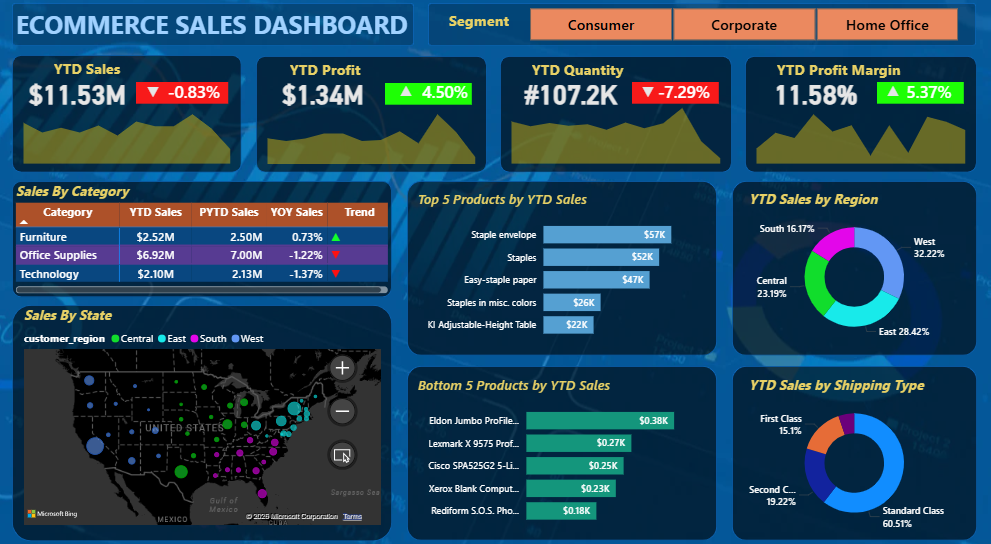

What the dashboard file says about the page in this screenshot:
{"tool":"powerbi","page":{"name":"E-commerce Sales Analysis","canvas":[1280,720],"ordinal":0},"visuals":[{"type":"shape","box":[17,12.8,518.7,55.3],"z":0},{"type":"textbox","box":[17,12.8,558.4,55.3],"z":1000},{"type":"shape","box":[17,79.4,296.2,151.7],"z":2000},{"type":"card","fields":{"Values":["public temp_csv_imported2.YTD Sales"]},"box":[11.3,97.8,178.6,60.9],"z":3000},{"type":"areaChart","fields":{"Category":["Calendar.Month"],"Y":["Sum(public temp_csv_imported2.sales_per_order)"]},"box":[17,131.8,296.2,93.5],"z":4000},{"type":"shape","box":[177.2,114.8,119.1,28.3],"z":5000},{"type":"card","fields":{"Values":["public temp_csv_imported2.YOY Sales"]},"box":[189.9,113.4,123.3,31.2],"z":6000},{"type":"card","fields":{"Values":["public temp_csv_imported2.Sales Icon"]},"box":[151.7,114.8,93.5,28.3],"z":7000},{"type":"textbox","box":[65.2,79.4,109.1,49.6],"z":8000},{"type":"shape","box":[331.7,80.8,297.6,150.2],"z":9000},{"type":"card","fields":{"Values":["public temp_csv_imported2.YTD Profit"]},"box":[299.1,86.5,236.7,85],"z":10000},{"type":"areaChart","fields":{"Category":["Calendar.Month"],"Y":["Sum(public temp_csv_imported2.profit_per_order)"]},"box":[331.7,140.3,297.6,85],"z":11000},{"type":"shape","box":[497.5,116.2,112,28.3],"z":12000},{"type":"card","fields":{"Values":["public temp_csv_imported2.YOY Profit"]},"box":[513.1,113.4,123.3,31.2],"z":13000},{"type":"card","fields":{"Values":["public temp_csv_imported2.Profit Icon"]},"box":[479.1,113.4,93.5,28.3],"z":14000},{"type":"textbox","box":[370,80.9,109.1,49.6],"z":15000},{"type":"shape","box":[646.3,80.8,299.1,150.2],"z":16000},{"type":"card","fields":{"Values":["public temp_csv_imported2.YTD Concatenated Qty"]},"box":[619.4,86.5,236.7,85],"z":17000},{"type":"areaChart","fields":{"Category":["Calendar.Month"],"Y":["Sum(public temp_csv_imported2.order_quantity)"]},"box":[646.3,131.8,299.1,93.5],"z":18000},{"type":"shape","box":[816.4,114.8,112,28.3],"z":19000},{"type":"card","fields":{"Values":["public temp_csv_imported2.YOY Qty"]},"box":[822,113.4,123.3,31.2],"z":20000},{"type":"card","fields":{"Values":["public temp_csv_imported2.Qty Icon"]},"box":[790.9,114.8,93.5,28.3],"z":21000},{"type":"textbox","box":[683.1,80.8,172.9,49.6],"z":22000},{"type":"shape","box":[962.4,80.9,299.1,150.2],"z":23000},{"type":"card","fields":{"Values":["public temp_csv_imported2.YTD Profit Margin"]},"box":[935.5,86.5,236.7,85],"z":24000},{"type":"areaChart","fields":{"Category":["Calendar.Month"],"Y":["public temp_csv_imported2.Profit Margin"]},"box":[962.4,131.9,299.1,93.5],"z":25000},{"type":"shape","box":[1132.5,114.9,112,28.3],"z":26000},{"type":"card","fields":{"Values":["public temp_csv_imported2.YOY Profit Margin"]},"box":[1138.2,113.5,123.3,31.2],"z":27000},{"type":"card","fields":{"Values":["public temp_csv_imported2.Profit Margin Icon"]},"box":[1106.9,113.4,93.5,28.3],"z":28000},{"type":"textbox","box":[999.3,80.9,172.9,49.6],"z":29000},{"type":"shape","box":[17,242.4,490,150],"z":30000},{"type":"pivotTable","title":"Sales By Category","fields":{"Rows":["public temp_csv_imported2.category_name"],"Values":["public temp_csv_imported2.YTD Sales","public temp_csv_imported2.PYTD Sales","public temp_csv_imported2.YOY Sales","public temp_csv_imported2.Sales Icon"]},"box":[17,242.4,490.4,150.2],"z":31000},{"type":"shape","box":[17,402.5,490.4,304.7],"z":32000},{"type":"map","title":"Sales By State","fields":{"Y":["public temp_csv_imported8.latitude"],"X":["public temp_csv_imported8.longitude"],"Size":["public temp_csv_imported2.YTD Sales"],"Series":["public temp_csv_imported2.customer_region"]},"box":[26.9,402.5,470.6,289.1],"z":33000},{"type":"shape","box":[525.8,242.4,400,225.4],"z":34000},{"type":"shape","box":[525.8,481.9,400,225.4],"z":35000},{"type":"barChart","title":"Top 5 Products by YTD Sales","fields":{"Category":["public temp_csv_imported2.product_name"],"Y":["public temp_csv_imported2.YTD Sales"]},"box":[535.7,252.3,379.8,204.1],"z":36000},{"type":"barChart","title":"Bottom 5 Products by YTD Sales","fields":{"Category":["public temp_csv_imported2.product_name"],"Y":["public temp_csv_imported2.YTD Sales"]},"box":[535.7,493.2,379.8,204.1],"z":37000},{"type":"shape","box":[945.4,242.4,316.1,225.4],"z":38000},{"type":"shape","box":[945.4,481.9,316.1,225.4],"z":39000},{"type":"donutChart","title":"YTD Sales by Region","fields":{"Category":["public temp_csv_imported2.customer_region"],"Y":["public temp_csv_imported2.YTD Sales"]},"box":[962.4,252.3,282,204.1],"z":40000},{"type":"donutChart","title":"YTD Sales by Shipping Type","fields":{"Y":["public temp_csv_imported2.YTD Sales"],"Category":["public temp_csv_imported2.shipping_type"]},"box":[962.4,493.2,282,204.1],"z":41000},{"type":"shape","box":[554.2,12.8,707.2,55.3],"z":42000},{"type":"slicer","fields":{"Values":["public temp_csv_imported2.customer_segment"]},"box":[659.1,12.8,602.4,55.3],"z":43000},{"type":"textbox","box":[575.4,18.4,107.7,49.6],"z":44000}]}

Visuals, with their boxes in screenshot pixels (x1, y1, x2, y2), scaled from the page's 1280x720 canvas onto the 991x544 screenshot:
shape: crop(13, 10, 415, 51)
textbox: crop(13, 10, 445, 51)
shape: crop(13, 60, 242, 175)
card - public temp_csv_imported2.YTD Sales: crop(9, 74, 147, 120)
areaChart - Calendar.Month x Sum(public temp_csv_imported2.sales_per_order): crop(13, 100, 242, 170)
shape: crop(137, 87, 229, 108)
card - public temp_csv_imported2.YOY Sales: crop(147, 86, 242, 109)
card - public temp_csv_imported2.Sales Icon: crop(117, 87, 190, 108)
textbox: crop(50, 60, 135, 97)
shape: crop(257, 61, 487, 175)
card - public temp_csv_imported2.YTD Profit: crop(232, 65, 415, 130)
areaChart - Calendar.Month x Sum(public temp_csv_imported2.profit_per_order): crop(257, 106, 487, 170)
shape: crop(385, 88, 472, 109)
card - public temp_csv_imported2.YOY Profit: crop(397, 86, 493, 109)
card - public temp_csv_imported2.Profit Icon: crop(371, 86, 443, 107)
textbox: crop(286, 61, 371, 99)
shape: crop(500, 61, 732, 175)
card - public temp_csv_imported2.YTD Concatenated Qty: crop(480, 65, 663, 130)
areaChart - Calendar.Month x Sum(public temp_csv_imported2.order_quantity): crop(500, 100, 732, 170)
shape: crop(632, 87, 719, 108)
card - public temp_csv_imported2.YOY Qty: crop(636, 86, 732, 109)
card - public temp_csv_imported2.Qty Icon: crop(612, 87, 685, 108)
textbox: crop(529, 61, 663, 99)
shape: crop(745, 61, 977, 175)
card - public temp_csv_imported2.YTD Profit Margin: crop(724, 65, 908, 130)
areaChart - Calendar.Month x public temp_csv_imported2.Profit Margin: crop(745, 100, 977, 170)
shape: crop(877, 87, 964, 108)
card - public temp_csv_imported2.YOY Profit Margin: crop(881, 86, 977, 109)
card - public temp_csv_imported2.Profit Margin Icon: crop(857, 86, 929, 107)
textbox: crop(774, 61, 908, 99)
shape: crop(13, 183, 393, 296)
"Sales By Category" pivotTable: crop(13, 183, 393, 297)
shape: crop(13, 304, 393, 534)
"Sales By State" map: crop(21, 304, 385, 523)
shape: crop(407, 183, 717, 353)
shape: crop(407, 364, 717, 534)
"Top 5 Products by YTD Sales" barChart: crop(415, 191, 709, 345)
"Bottom 5 Products by YTD Sales" barChart: crop(415, 373, 709, 527)
shape: crop(732, 183, 977, 353)
shape: crop(732, 364, 977, 534)
"YTD Sales by Region" donutChart: crop(745, 191, 963, 345)
"YTD Sales by Shipping Type" donutChart: crop(745, 373, 963, 527)
shape: crop(429, 10, 977, 51)
slicer - public temp_csv_imported2.customer_segment: crop(510, 10, 977, 51)
textbox: crop(445, 14, 529, 51)
